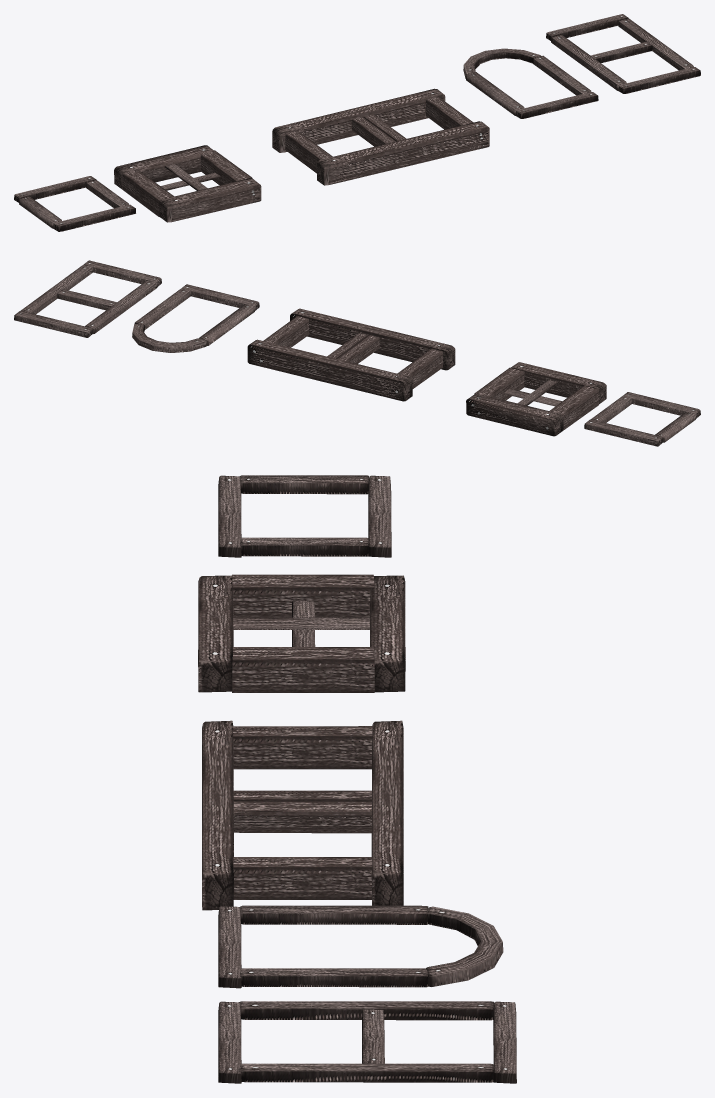
Rendered from Window Frames.FBX.
3 views of the same model, one above another, from view 1: azimuth 30°, elevation 25°; view 2: azimuth 150°, elevation 25°; view 3: azimuth 270°, elevation 25° (orthographic). The views are drawn at different scales.
Visible parts, largest first — view 1: Window Frame Thick Wide Optimized, Window Frame Thick Optimized, Window Frame Tall Optimized, Window Frame Thin Curve, Window Frame Thin Optimized; view 2: Window Frame Thick Wide Optimized, Window Frame Thick Optimized, Window Frame Tall Optimized, Window Frame Thin Curve, Window Frame Thin Optimized; view 3: Window Frame Thick Wide Optimized, Window Frame Thick Optimized, Window Frame Tall Optimized, Window Frame Thin Curve, Window Frame Thin Optimized.
Boxes of the visible parts, bbox=[...] form: Window Frame Thick Wide Optimized: bbox=[272, 88, 489, 185]; Window Frame Thick Optimized: bbox=[114, 145, 261, 222]; Window Frame Tall Optimized: bbox=[546, 14, 700, 93]; Window Frame Thin Curve: bbox=[463, 48, 598, 118]; Window Frame Thin Optimized: bbox=[14, 176, 135, 231]; Window Frame Thick Wide Optimized: bbox=[247, 308, 455, 401]; Window Frame Thick Optimized: bbox=[466, 362, 606, 436]; Window Frame Tall Optimized: bbox=[14, 260, 161, 337]; Window Frame Thin Curve: bbox=[132, 284, 259, 352]; Window Frame Thin Optimized: bbox=[584, 392, 700, 446]; Window Frame Thick Wide Optimized: bbox=[202, 720, 403, 910]; Window Frame Thick Optimized: bbox=[198, 574, 405, 692]; Window Frame Tall Optimized: bbox=[218, 1001, 516, 1083]; Window Frame Thin Curve: bbox=[218, 905, 503, 988]; Window Frame Thin Optimized: bbox=[218, 475, 391, 557].
Bounding box in the file's own units: 486 × 109 × 15.04.
Materials: 1 (1 with a texture image).
